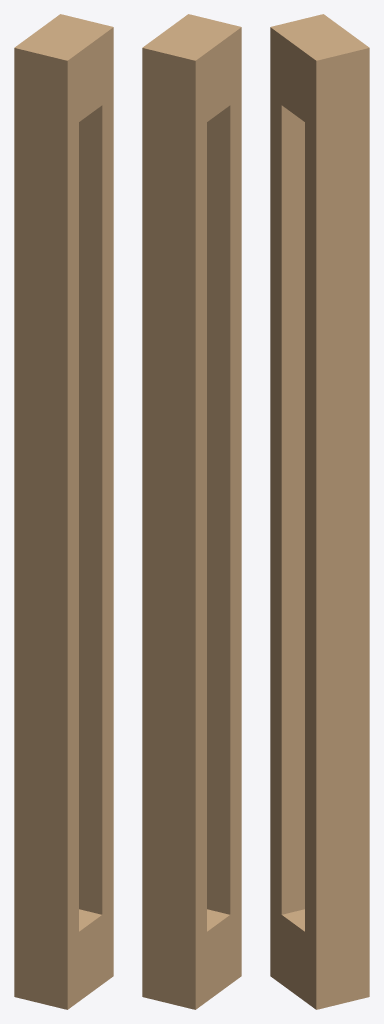
Rendered from starter-armature-winding-2.glb.
3 views of the same model, side by side, from view 1: azimuth 30°, elevation 25°; view 2: azimuth 210°, elevation 25°; view 3: azimuth 270°, elevation 25° (orthographic).
Visible parts, largest first — view 1: world; view 2: world; view 3: world.
Boxes of the visible parts, x1=… form: world: x1=14, y1=14, x2=113, y2=1009; world: x1=142, y1=14, x2=241, y2=1009; world: x1=270, y1=14, x2=369, y2=1009.
Bounding box in the file's own units: 0.0072 × 0.068 × 0.00646.
